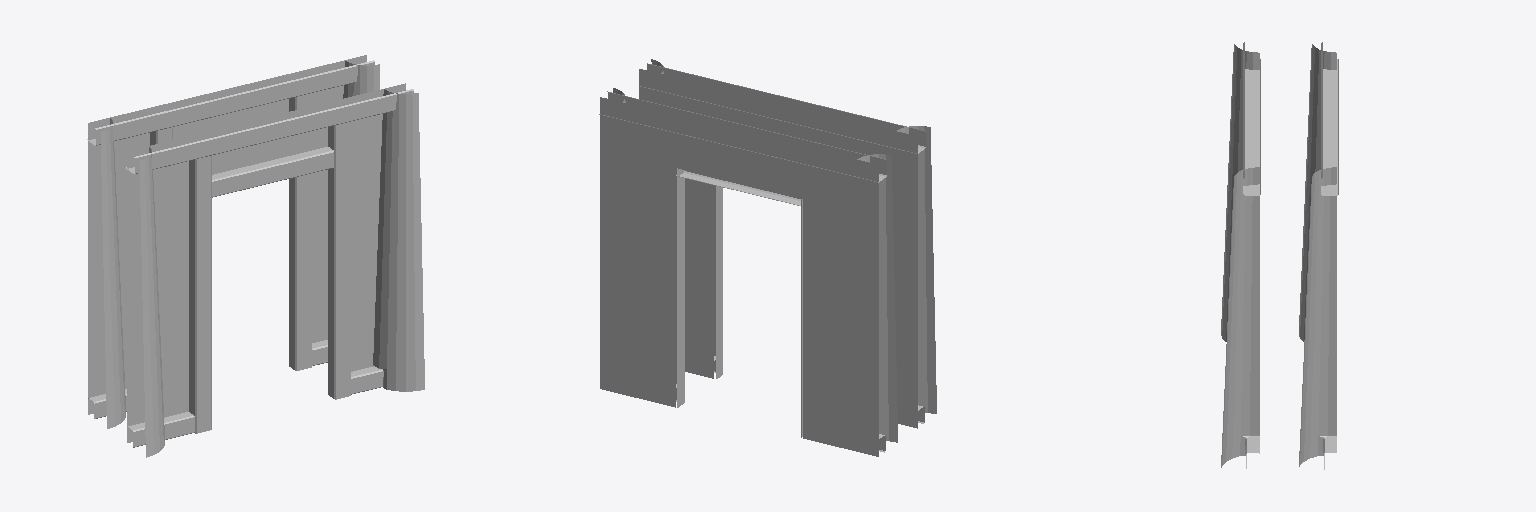
The model's file is Arch1.obj.
3 views of the same model, side by side, from view 1: azimuth 30°, elevation 25°; view 2: azimuth 150°, elevation 25°; view 3: azimuth 270°, elevation 25° (orthographic).
Parts seen in each view (by area): view 1: IntWall01door, IntWall01door__1_; view 2: IntWall01door__1_, IntWall01door; view 3: IntWall01door, IntWall01door__1_.
Boxes of the visible parts, x1=… form: IntWall01door: x1=126, y1=83, x2=424, y2=457; IntWall01door__1_: x1=87, y1=55, x2=379, y2=428; IntWall01door__1_: x1=599, y1=88, x2=897, y2=456; IntWall01door: x1=639, y1=59, x2=936, y2=428; IntWall01door: x1=1221, y1=42, x2=1260, y2=468; IntWall01door__1_: x1=1299, y1=42, x2=1338, y2=469.
Size of the model in its own units: 2 by 2 by 0.7341.